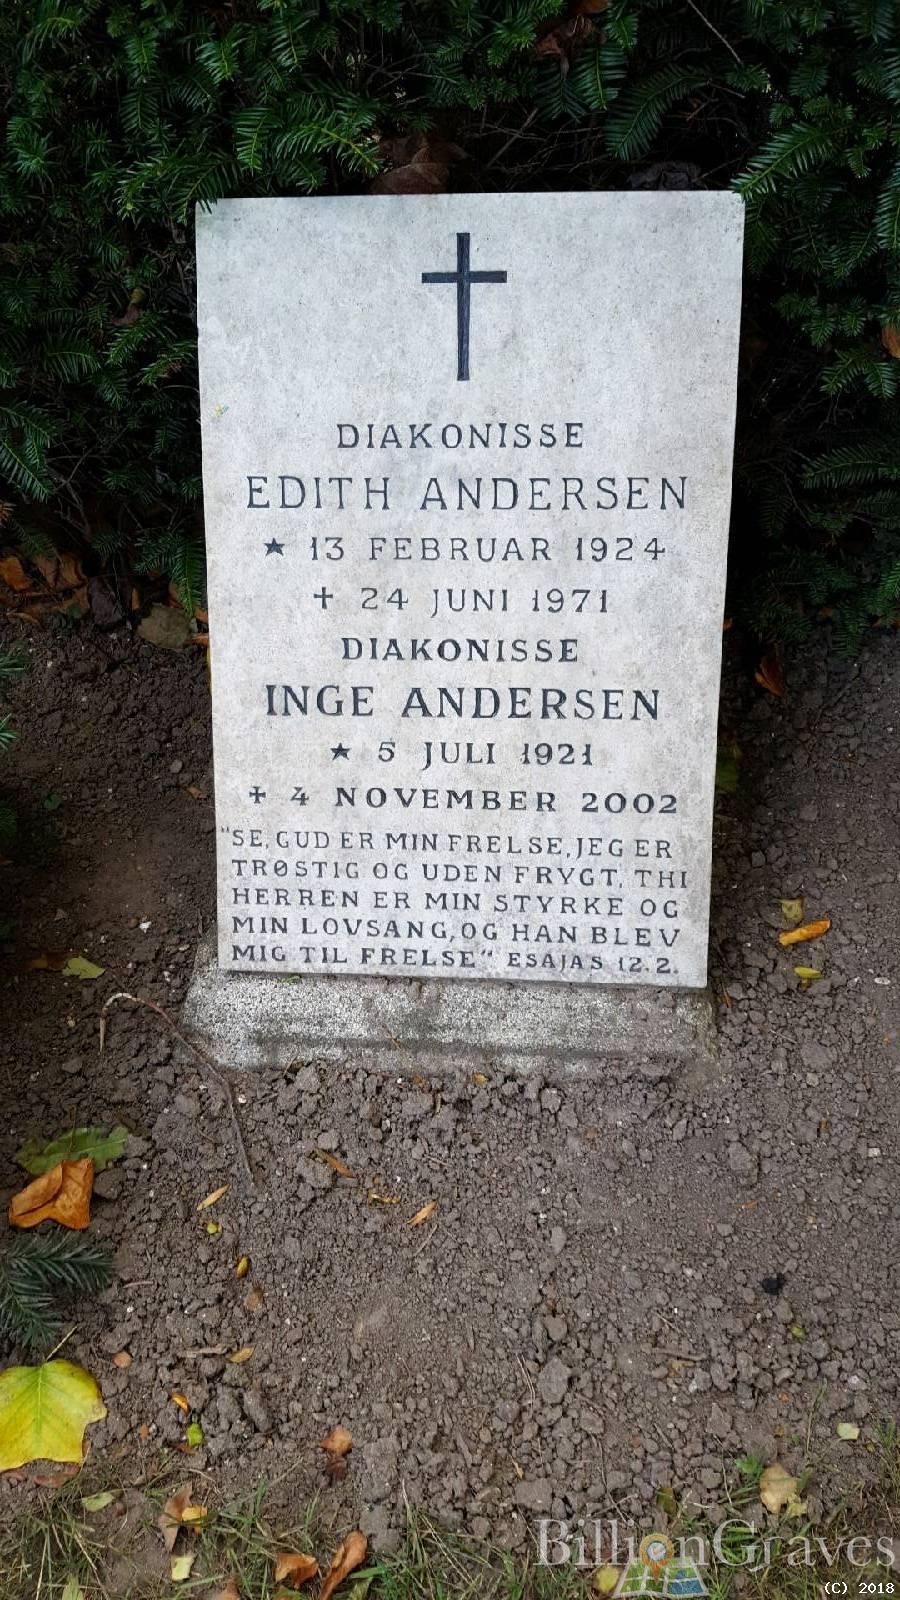upright: (182, 173, 748, 1084)
